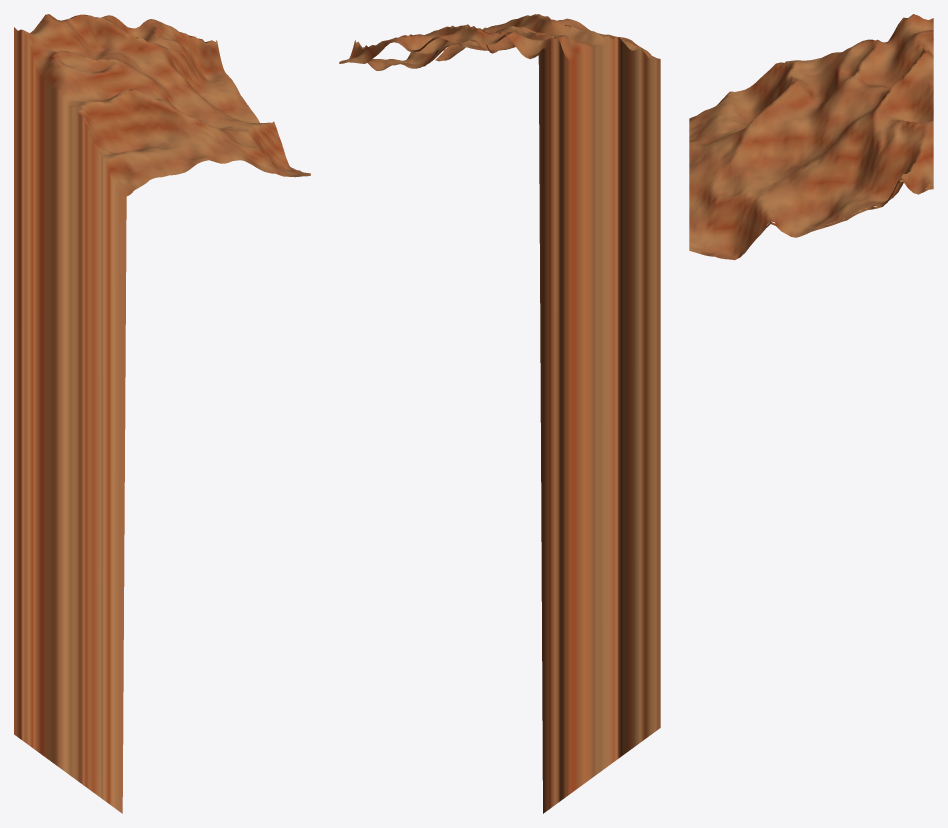
File: terrain-054.glb
3 views of the same model, side by side, from view 1: azimuth 30°, elevation 25°; view 2: azimuth 150°, elevation 25°; view 3: azimuth 270°, elevation 25° (orthographic). The views are drawn at different scales.
Parts seen in each view (by area): view 1: terrain-054; view 2: terrain-054; view 3: terrain-054.
Part boxes in pixels (<box>): terrain-054: <box>14,14,310,813</box>; terrain-054: <box>339,14,660,813</box>; terrain-054: <box>689,14,933,259</box>.
Bounding box in the file's own units: 384 × 1388 × 384.
